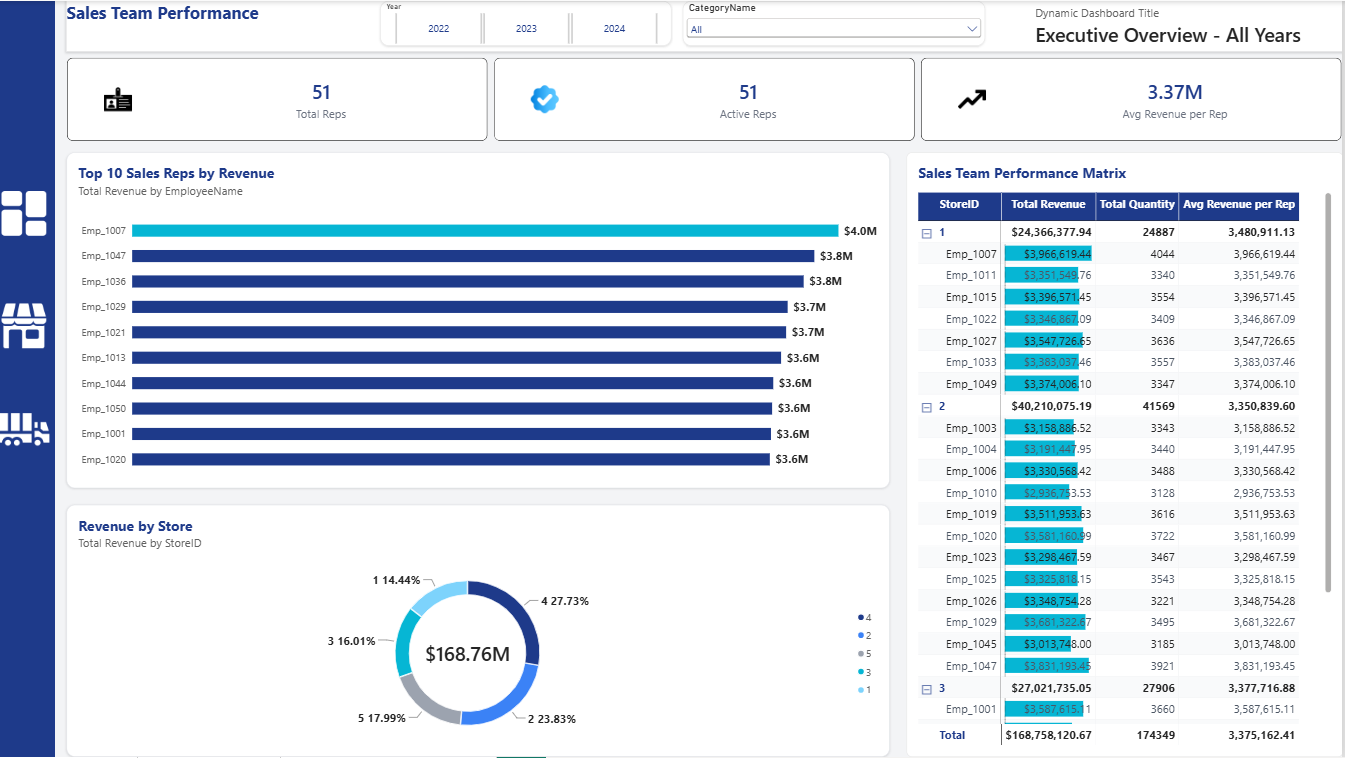

The dashboard page shown, as its layout file describes it:
{"tool":"powerbi","page":{"name":"Sales Team Performance","canvas":[1920,1080],"ordinal":2},"visuals":[{"type":"shape","box":[0,0,80,1080],"z":0,"group":"g2"},{"type":"textbox","box":[96,0,1824,72],"z":0},{"type":"cardVisual","fields":{"Data":["_Measures.Dynamic Dashboard Title"]},"box":[1464,0,456,72],"z":1000},{"type":"image","box":[3,272,64,64],"z":1000,"group":"g2"},{"type":"cardVisual","fields":{"Data":["_Measures.Total Reps","_Measures.Active Reps","_Measures.Avg Revenue per Rep"]},"box":[96,80,1824,120],"z":2000},{"type":"slicer","fields":{"Values":["Dim_Date.Year"]},"box":[544,0,416,64],"z":3000},{"type":"image","box":[3,416,64,96],"z":3000,"group":"g2"},{"type":"slicer","fields":{"Values":["DimCategory.CategoryName"]},"box":[976,0,432,64],"z":4000},{"type":"group","id":"g1","title":"Group 1","box":[0,0,80,1080],"z":5000},{"type":"image","box":[0,576,72,96],"z":5000,"group":"g2"},{"type":"clusteredBarChart","title":"Top 10 Sales Reps by Revenue","fields":{"Category":["DimEmployees.EmployeeName"],"Y":["_Measures.Total Revenue"]},"box":[96,216,1176,480],"z":6000},{"type":"donutChart","title":"Revenue by Store","fields":{"Category":["DimEmployees.StoreID"],"Y":["_Measures.Total Revenue"]},"box":[96,720,1176,360],"z":7000},{"type":"pivotTable","title":"Sales Team Performance Matrix","fields":{"Rows":["DimEmployees.StoreID","DimEmployees.EmployeeName"],"Values":["_Measures.Total Revenue","_Measures.Total Quantity","_Measures.Avg Revenue per Rep"]},"box":[1296,216,624,864],"z":7001},{"type":"group","id":"g2","title":"Group 2","box":[0,0,80,1080],"z":11002,"group":"g1"}]}

Visuals, with their boxes on the page's 1920x1080 design canvas (x1, y1, x2, y2). These are canvas units, not pixel positions in the 1345x758 screenshot, which may show the page scaled, cropped or inside an application window:
shape: <box>0,0,80,1080</box>
textbox: <box>96,0,1920,72</box>
cardVisual - _Measures.Dynamic Dashboard Title: <box>1464,0,1920,72</box>
image: <box>3,272,67,336</box>
cardVisual - _Measures.Total Reps x _Measures.Active Reps: <box>96,80,1920,200</box>
slicer - Dim_Date.Year: <box>544,0,960,64</box>
image: <box>3,416,67,512</box>
slicer - DimCategory.CategoryName: <box>976,0,1408,64</box>
"Group 1" group: <box>0,0,80,1080</box>
image: <box>0,576,72,672</box>
"Top 10 Sales Reps by Revenue" clusteredBarChart: <box>96,216,1272,696</box>
"Revenue by Store" donutChart: <box>96,720,1272,1080</box>
"Sales Team Performance Matrix" pivotTable: <box>1296,216,1920,1080</box>
"Group 2" group: <box>0,0,80,1080</box>
